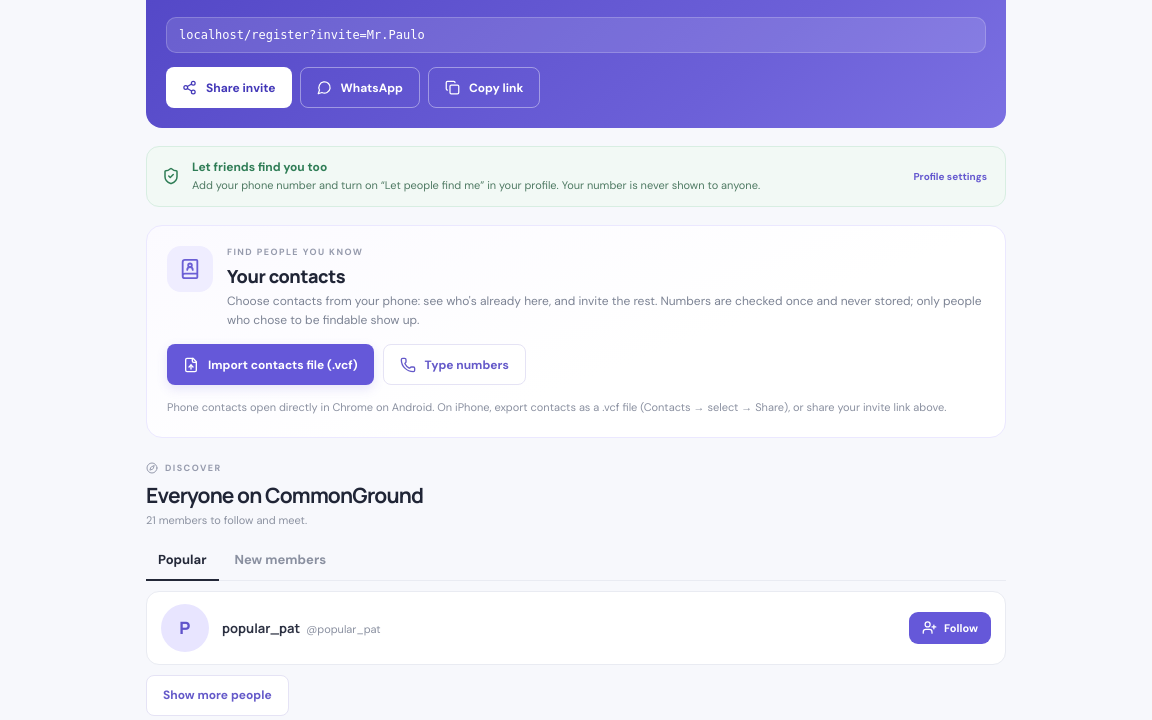
Test case: PeoplePage › lists everyone, popular or newest first, with more on demand
(page scrolled)
Expected: the text "@popular_pat" is shown, [306,622,381,636]
Click the button "Show more people": (217, 695) [146,675,289,716]
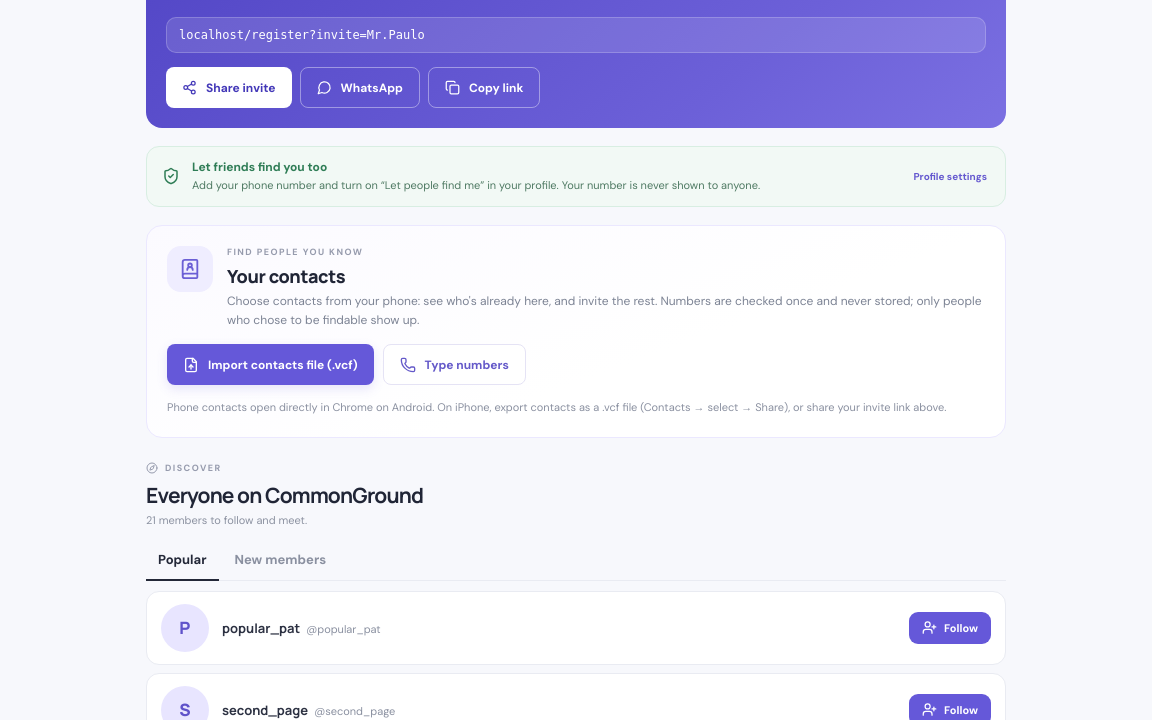
Result: the text "@second_page" is shown at [314,704,395,718]
Click the tab "New members": (280, 560) [222,539,338,581]
(page scrolled)
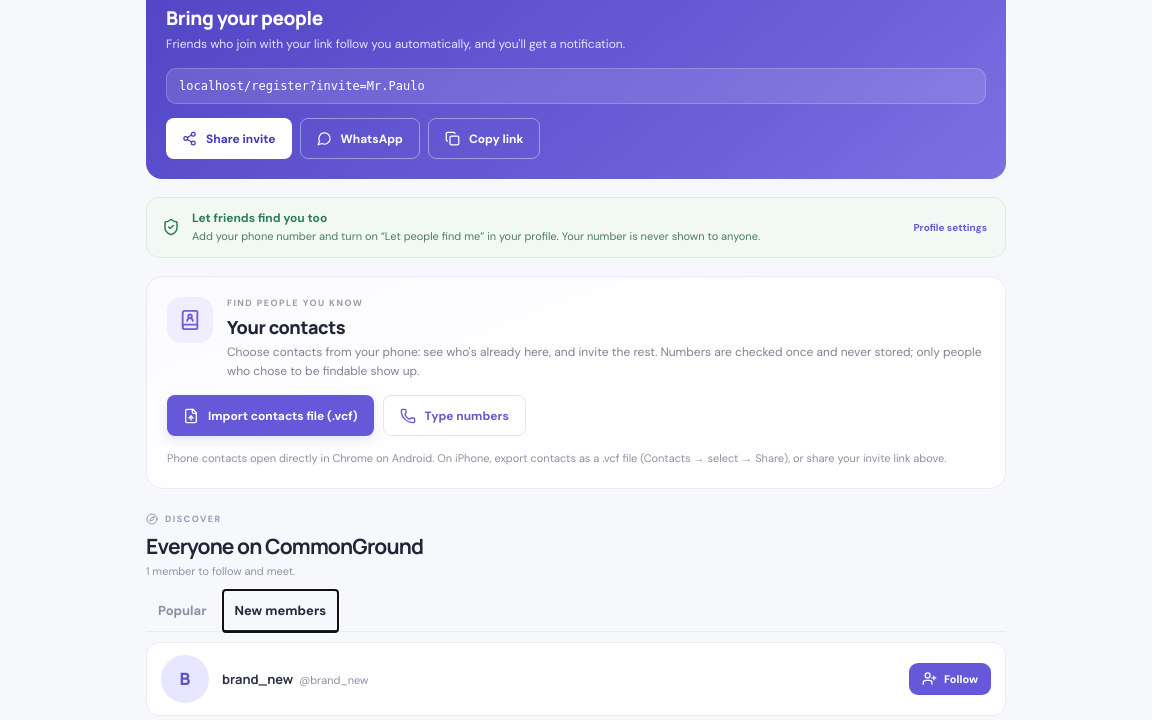
Result: the text "@brand_new" is shown at [299,673,368,687]
